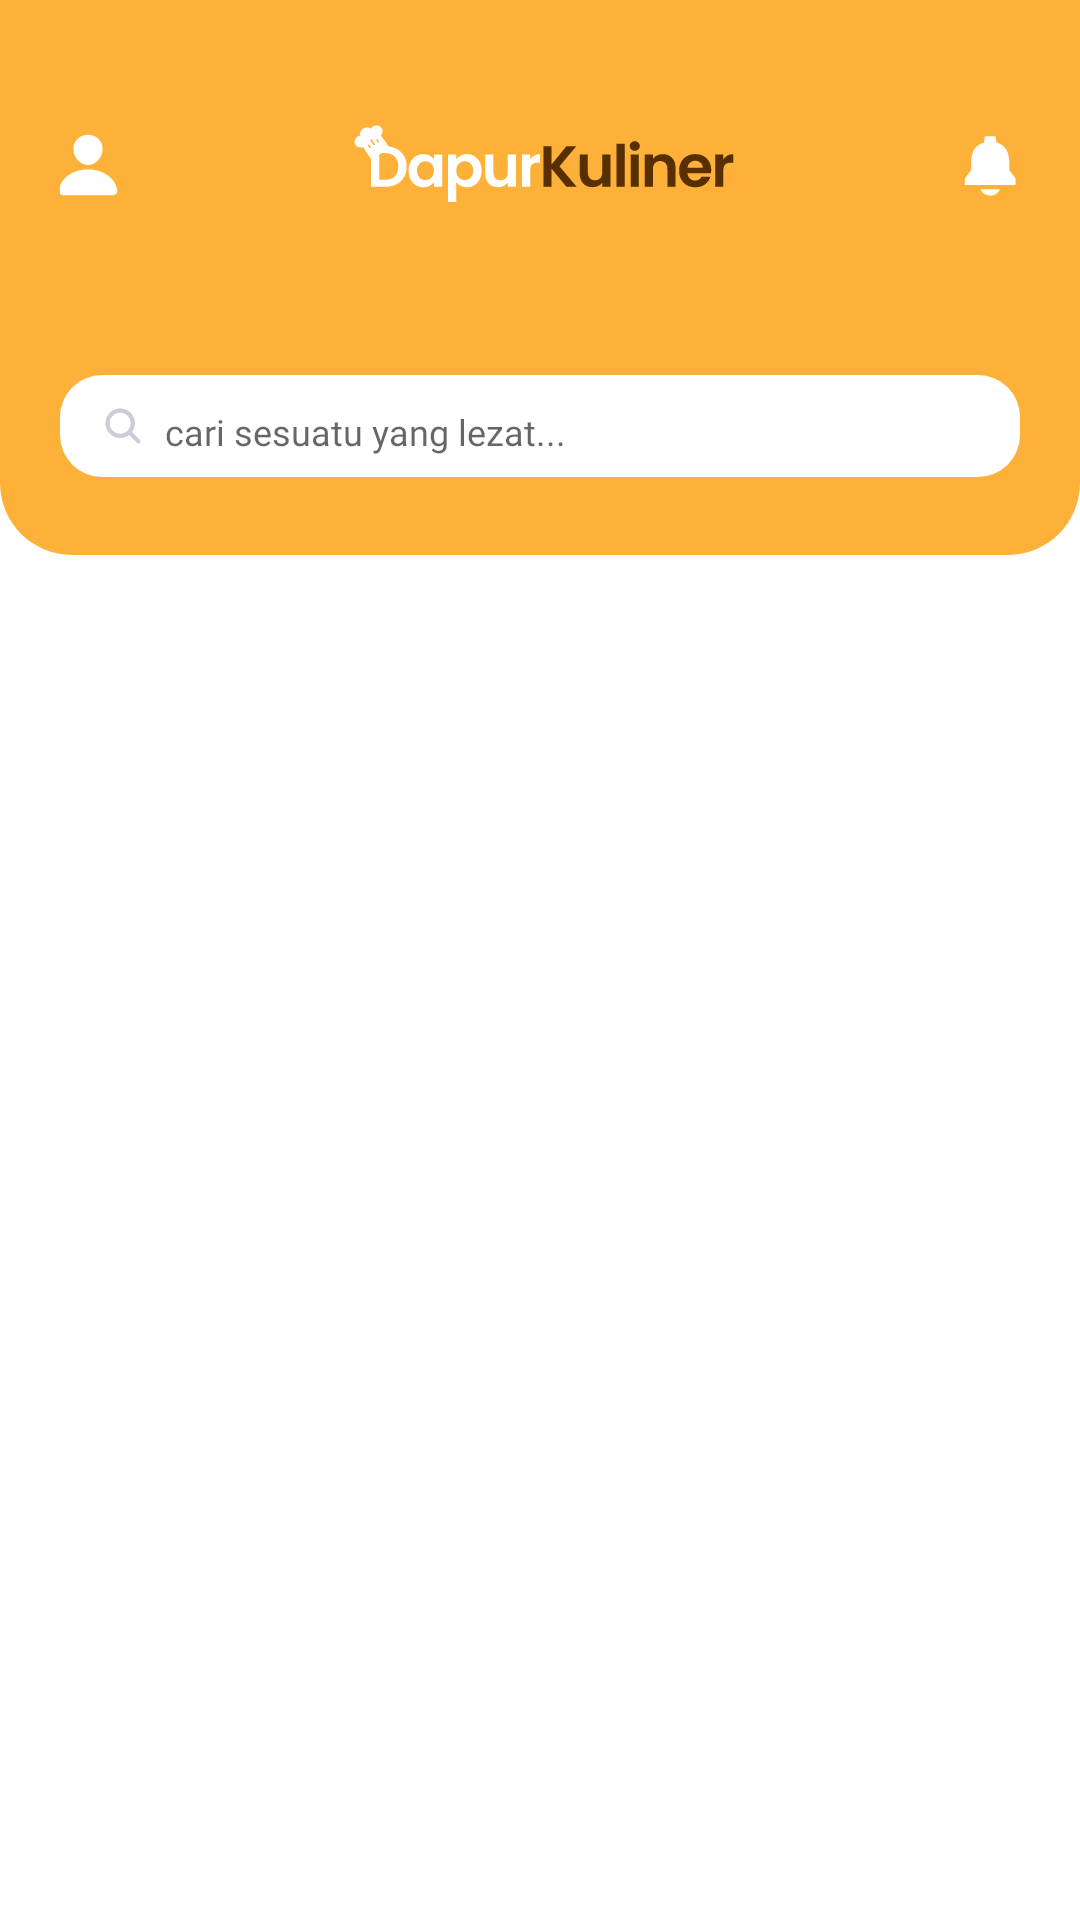

Where icons sit on this 1080 × 1920 app screen, as Rect(x1, y1, x2, y2):
search: Rect(105, 408, 140, 443)
